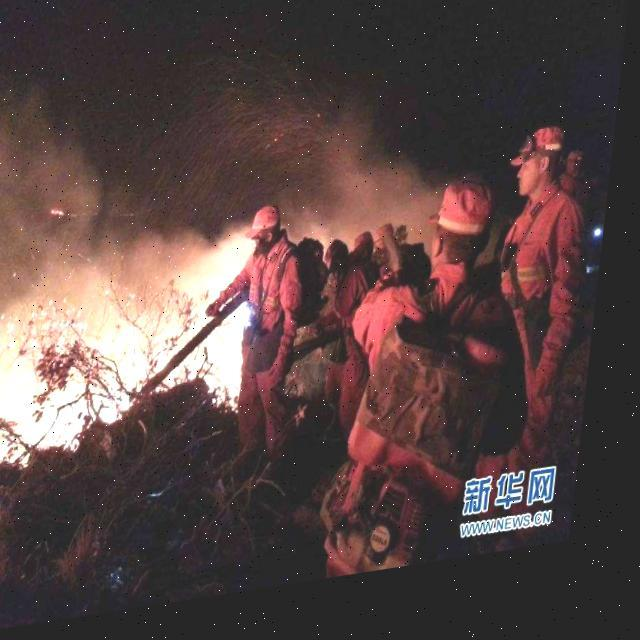Fire: (0, 258, 262, 496)
